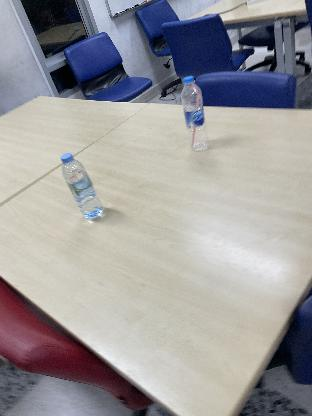Plastic Bottle: (61, 152, 107, 221), (180, 76, 210, 152)
